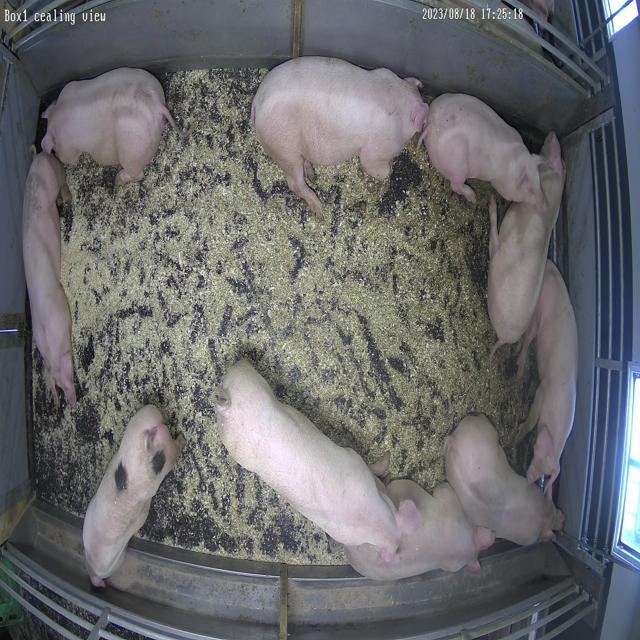Dirt: (416, 150, 489, 314)
Pig: (216, 362, 421, 560), (252, 56, 429, 216), (82, 406, 182, 588), (489, 133, 566, 346), (41, 67, 175, 184), (345, 481, 496, 582), (447, 417, 565, 546), (519, 260, 579, 500), (421, 93, 542, 204), (22, 152, 74, 406)
